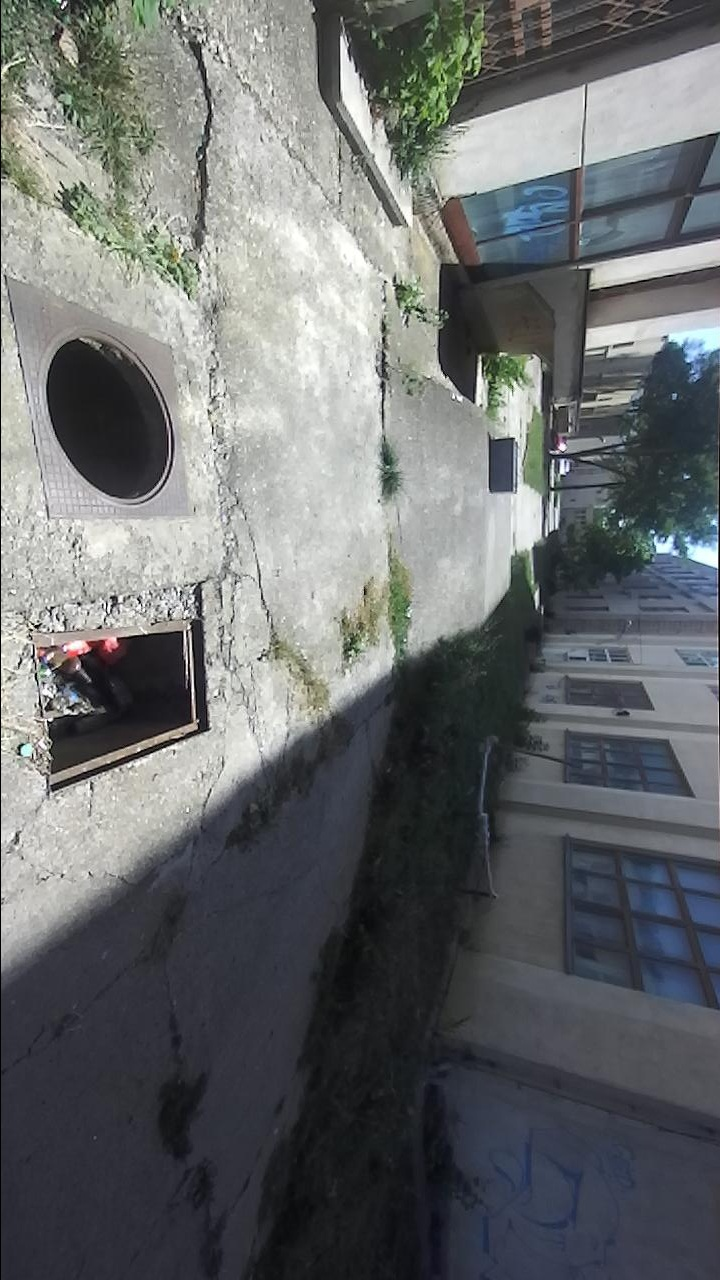drain: (34, 613, 212, 795), (42, 323, 178, 511)
